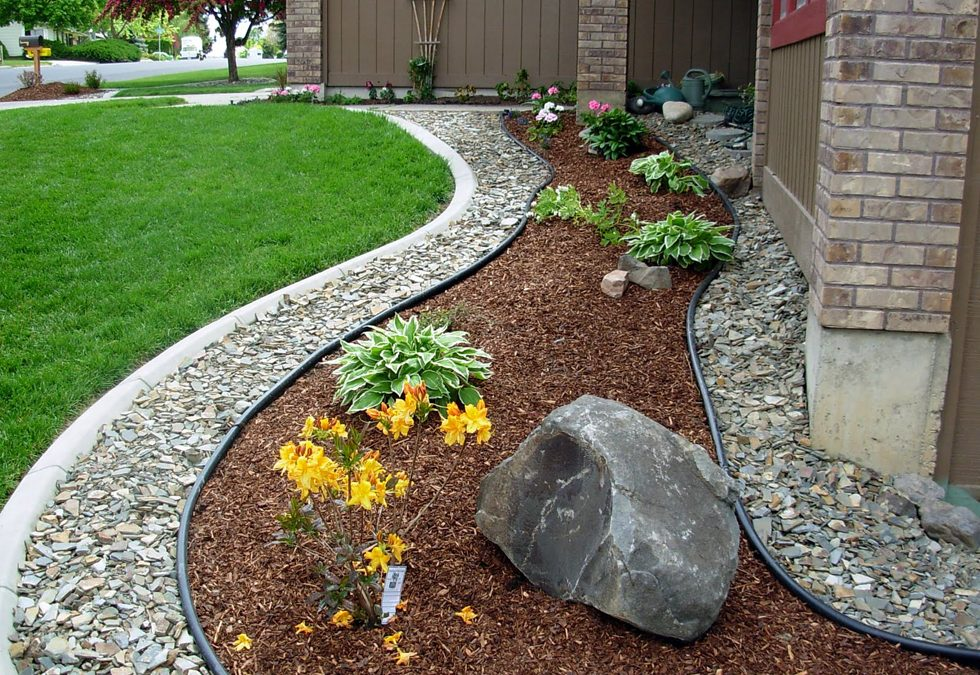grass: (1, 101, 455, 264), (1, 270, 114, 488), (117, 268, 279, 353)
rock: (6, 360, 238, 672), (469, 389, 746, 641), (779, 462, 979, 641), (700, 268, 813, 523)
